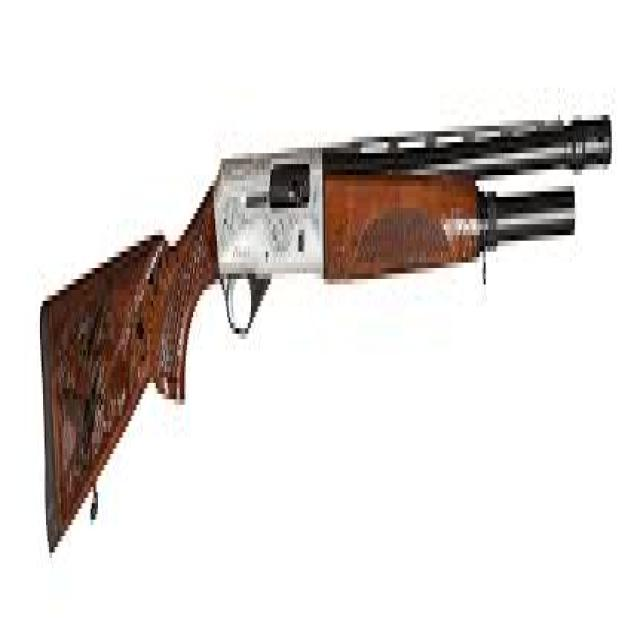rifle: (29, 50, 621, 578)
